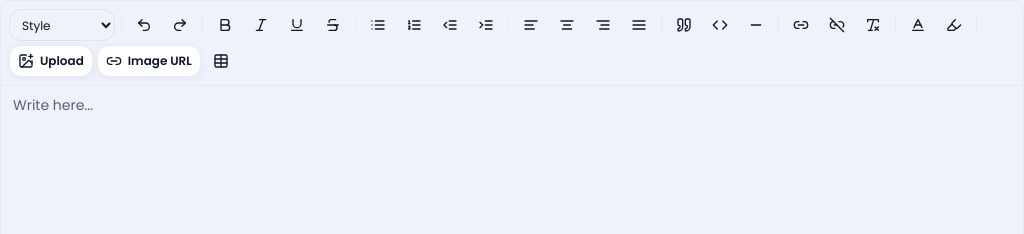
RichTextEditor › puts a table into the text
Click the button named "insert table". click: (221,61)
box: [205,45,237,77]
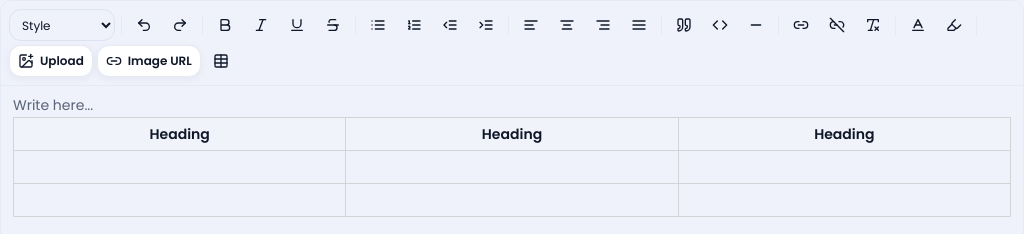
Result: the number of column headings is 3 at [14,117,346,150]; [346,117,678,150]; [678,117,1010,150]
